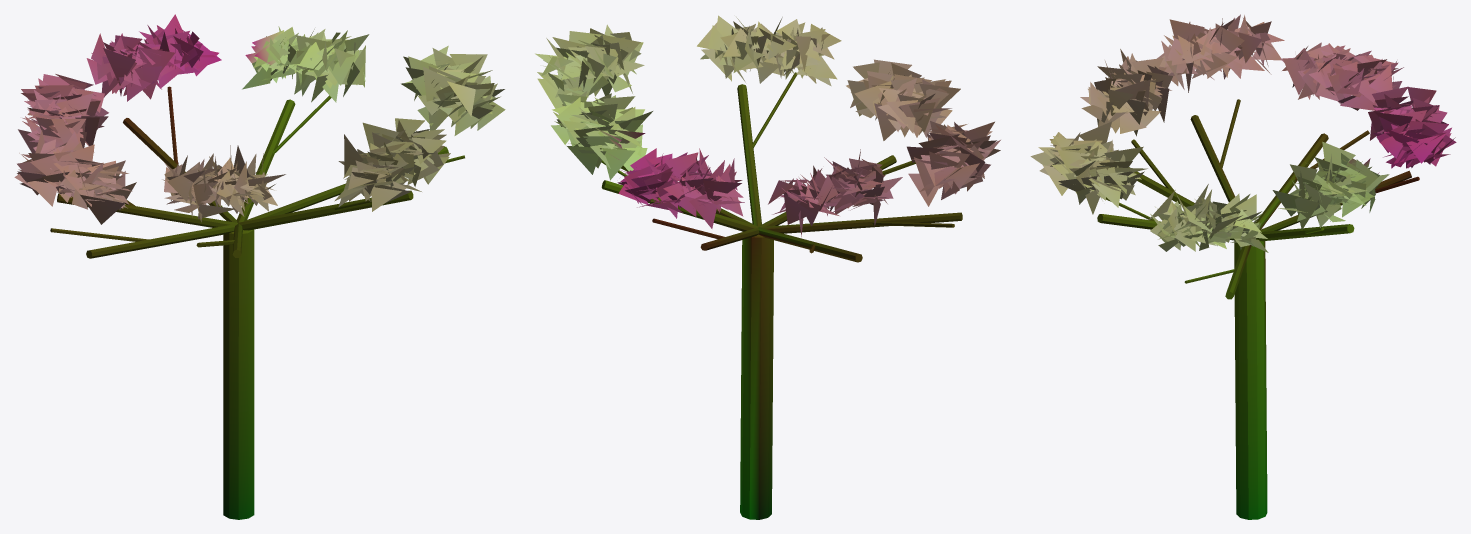
File: ecological_savanna_established_01.glb
3 renders of one model, left to right at view 1: azimuth 30°, elevation 25°; view 2: azimuth 150°, elevation 25°; view 3: azimuth 270°, elevation 25°, orthographic. The views are drawn at different scales.
Parts seen in each view (by area): view 1: ecological_savanna_established_01; view 2: ecological_savanna_established_01; view 3: ecological_savanna_established_01.
Part boxes in pixels (bbox=[...]): ecological_savanna_established_01: bbox=[14, 14, 505, 519]; ecological_savanna_established_01: bbox=[535, 15, 1000, 519]; ecological_savanna_established_01: bbox=[1030, 14, 1456, 519].
Bounding box in the file's own units: 15.8 × 13.87 × 13.15.
